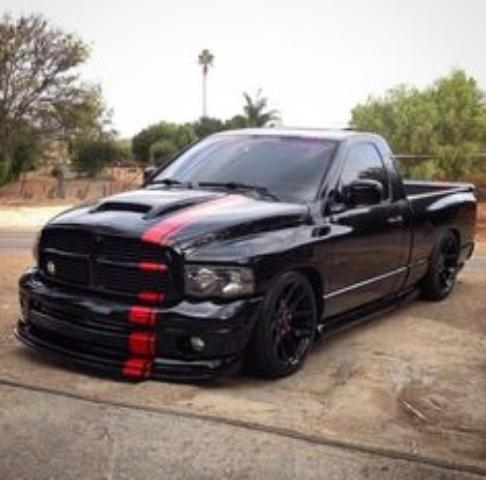pickup-truck: (14, 128, 478, 385)
